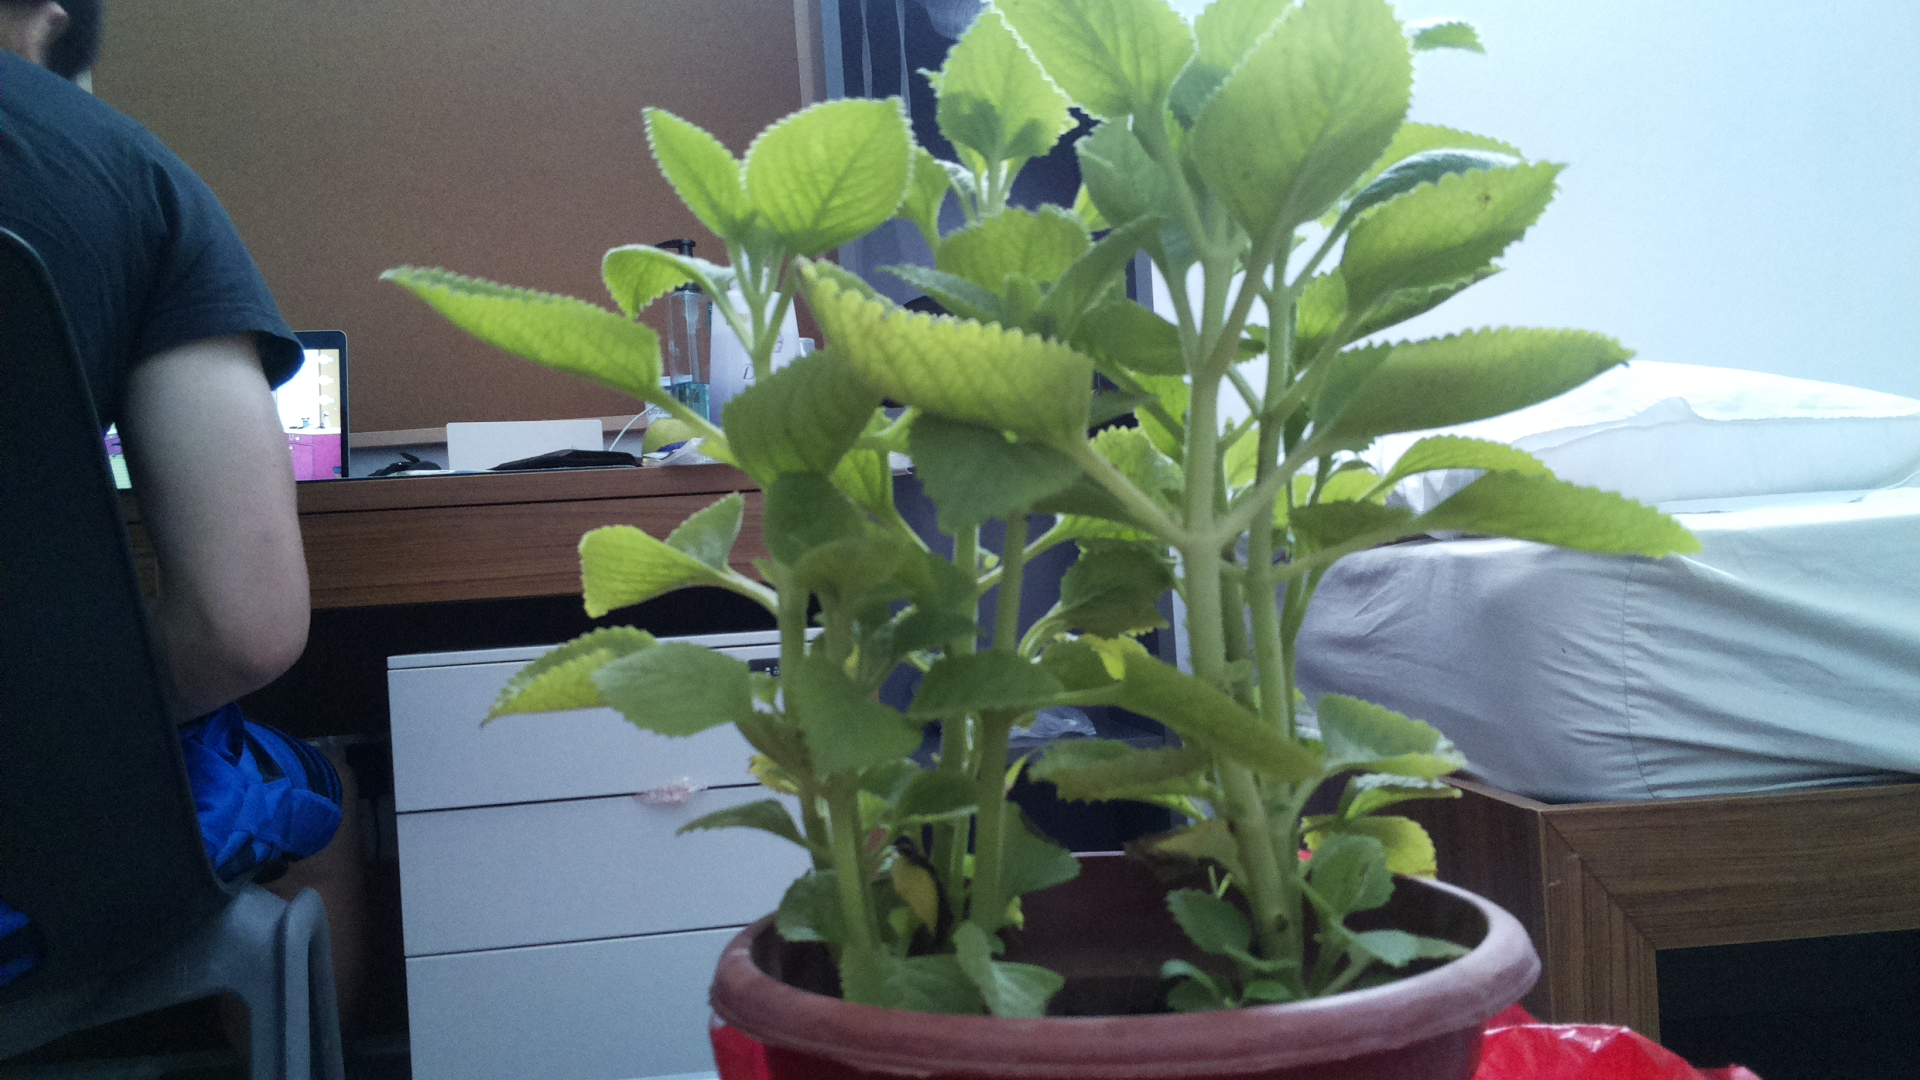leaf: (1183, 1, 1418, 247), (791, 262, 1087, 448), (1305, 309, 1648, 458), (375, 253, 680, 405), (1332, 145, 1569, 328), (1112, 645, 1345, 785), (742, 94, 928, 253), (1400, 469, 1716, 562), (923, 1, 1076, 171), (575, 481, 740, 629), (465, 629, 665, 737), (633, 105, 761, 257), (793, 657, 935, 786), (584, 632, 748, 737)
